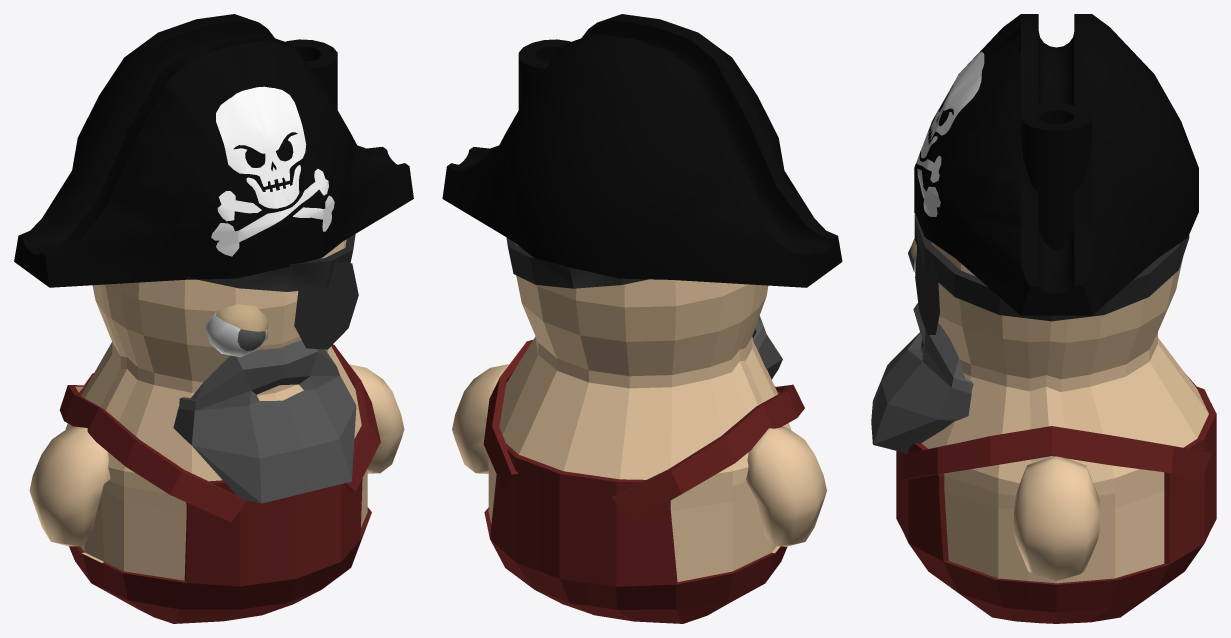
File: Pirate.fbx
3 views of the same model, side by side, from view 1: azimuth 30°, elevation 25°; view 2: azimuth 150°, elevation 25°; view 3: azimuth 270°, elevation 25° (orthographic).
Visible parts, largest first — view 1: Cylinder.002, Piece000.058; view 2: Cylinder.002, Piece000.058; view 3: Cylinder.002, Piece000.058.
Boxes of the visible parts, bbox=[...] form: Cylinder.002: bbox=[29, 234, 404, 623]; Piece000.058: bbox=[14, 14, 413, 287]; Cylinder.002: bbox=[452, 237, 826, 623]; Piece000.058: bbox=[442, 14, 842, 287]; Cylinder.002: bbox=[871, 213, 1216, 623]; Piece000.058: bbox=[914, 14, 1198, 315].
Bounding box in the file's own units: 2.06 × 3 × 1.69.
